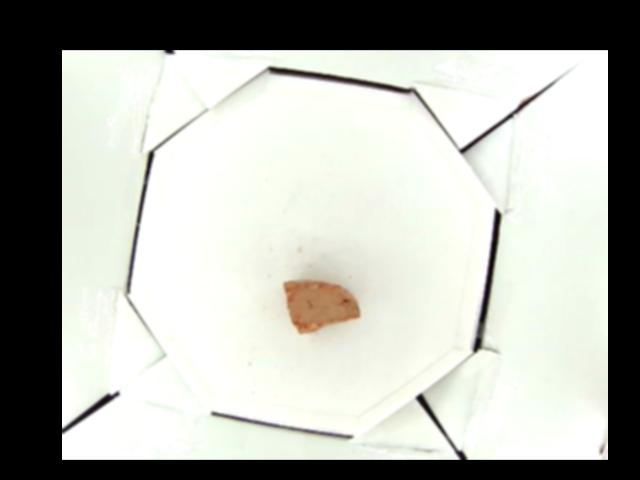Brisk: (283, 279, 361, 334)
